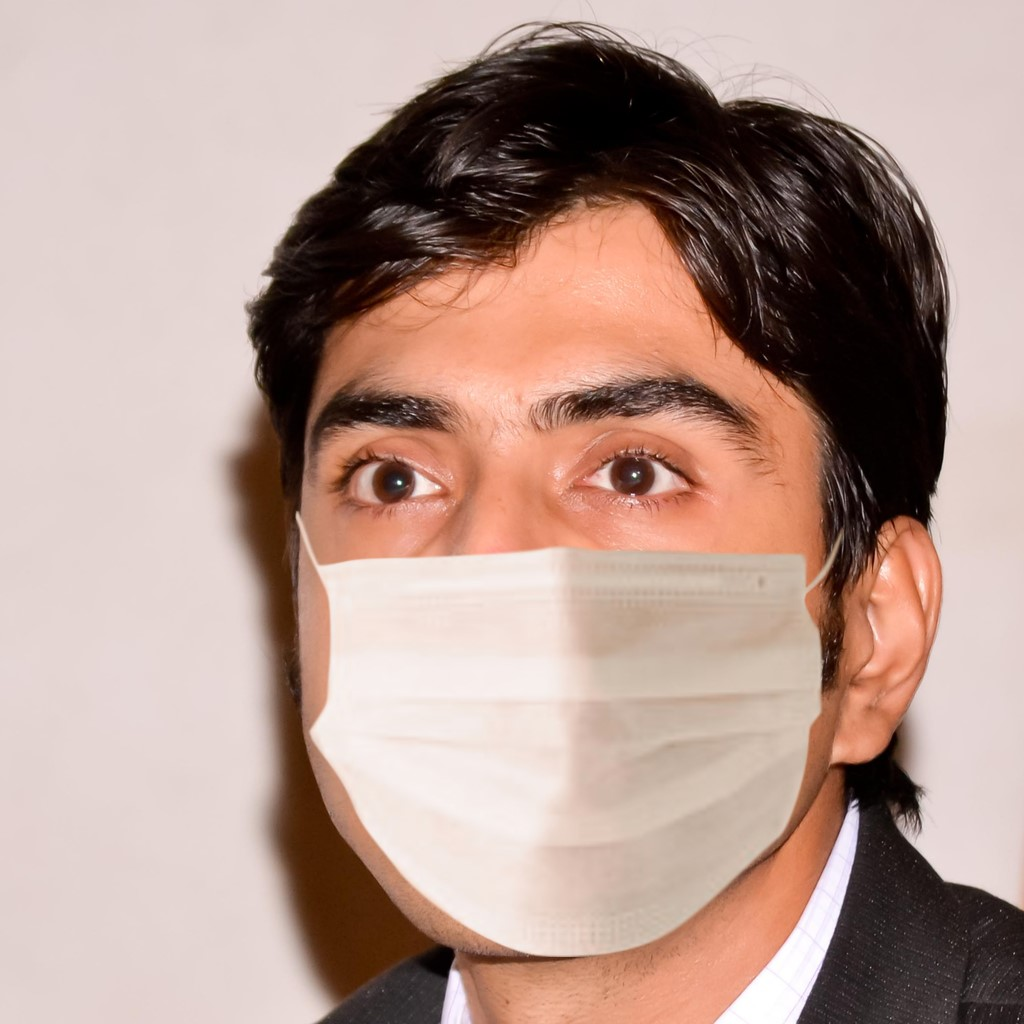con_mascara: (303, 208, 853, 954)
